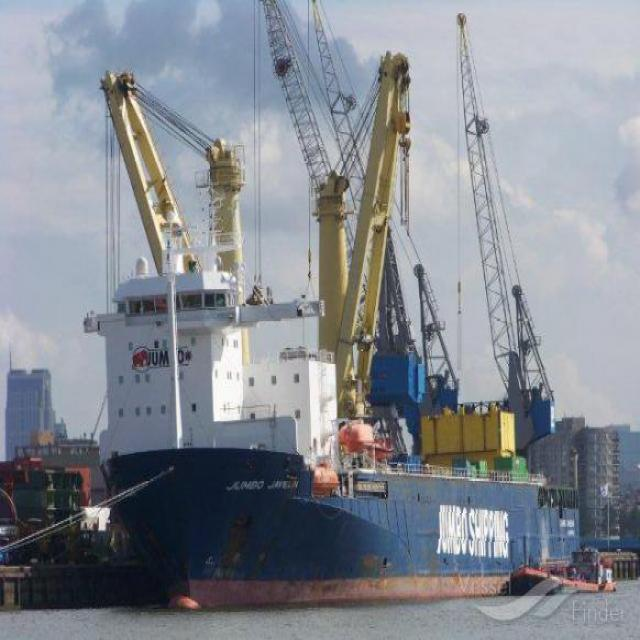OCR: (430, 498, 518, 564)
